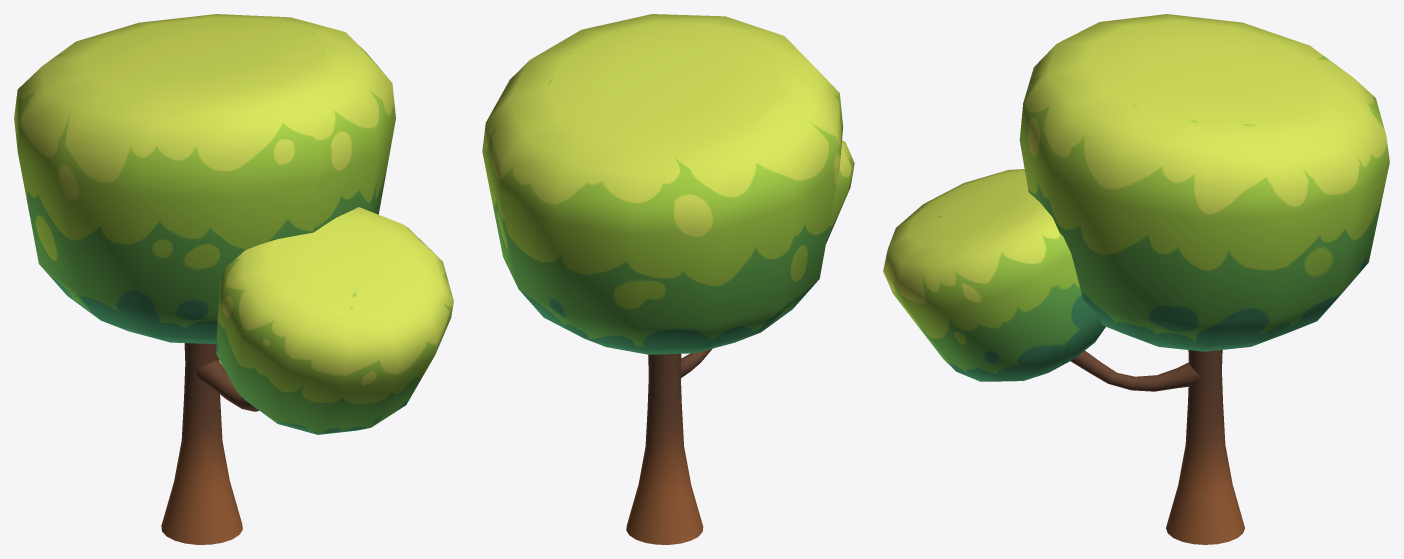
Rendered from TreeOne.glb.
3 renders of one model, left to right at view 1: azimuth 30°, elevation 25°; view 2: azimuth 150°, elevation 25°; view 3: azimuth 270°, elevation 25°, orthographic. The views are drawn at different scales.
Visible parts, largest first — view 1: tree_3_1; view 2: tree_3_1; view 3: tree_3_1.
Part boxes in pixels (<box>): tree_3_1: <box>14,14,453,544</box>; tree_3_1: <box>482,14,854,544</box>; tree_3_1: <box>883,14,1389,544</box>.
Bounding box in the file's own units: 5.65 × 7.95 × 7.79.
Materials: 1 (1 with a texture image).
